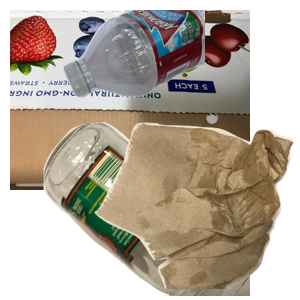cardboard: (10, 10, 250, 190)
glass: (41, 120, 281, 300)
plastic: (60, 10, 300, 100)
trash: (92, 120, 300, 300)
